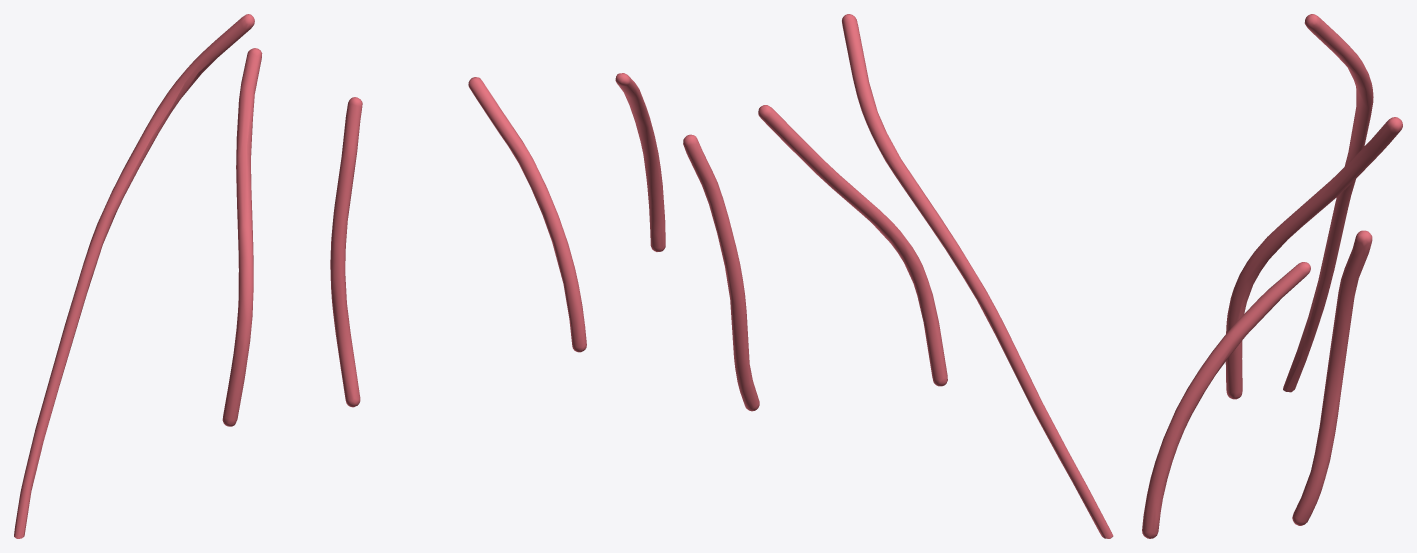
Rendered from fma85102_fj2349.glb.
3 views of the same model, side by side, from view 1: azimuth 30°, elevation 25°; view 2: azimuth 150°, elevation 25°; view 3: azimuth 270°, elevation 25° (orthographic). The views are drawn at different scales.
Parts seen in each view (by area): view 1: FMA85102_FJ2349; view 2: FMA85102_FJ2349; view 3: FMA85102_FJ2349.
Part boxes in pixels (x1,y1,x2,y2): FMA85102_FJ2349: [14, 14, 586, 538]; FMA85102_FJ2349: [615, 14, 1113, 538]; FMA85102_FJ2349: [1142, 14, 1402, 538].
Bounding box in the file's own units: 0.058 × 0.0496 × 0.0232.
